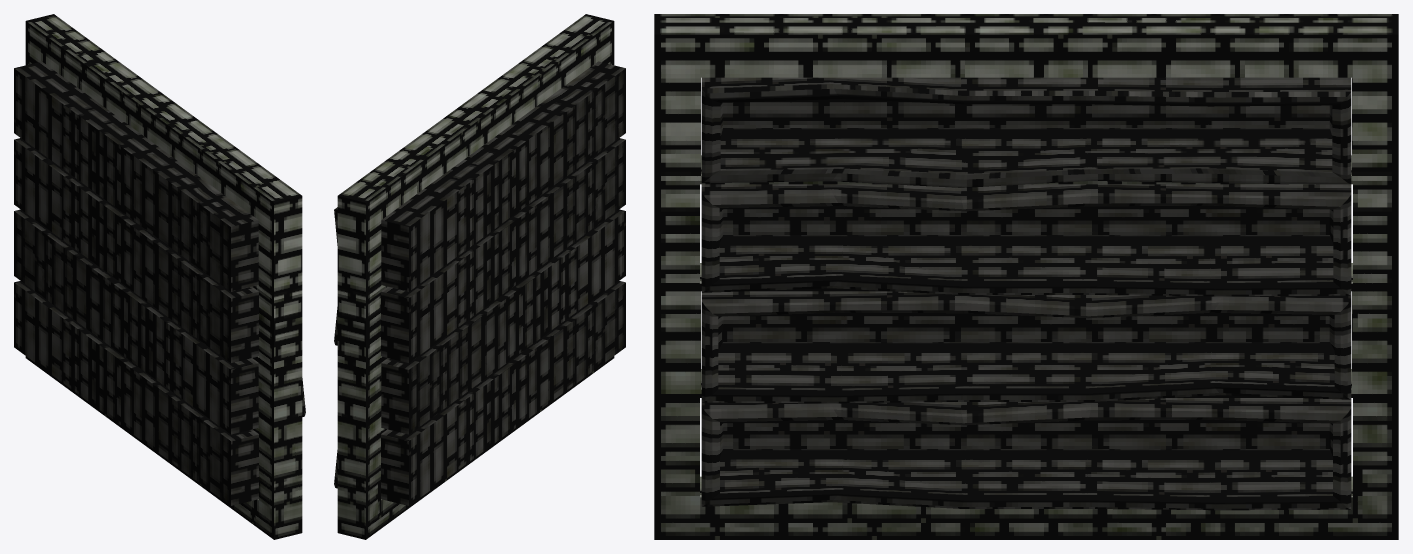
The model's file is WallGraves.fbx.
3 renders of one model, left to right at view 1: azimuth 30°, elevation 25°; view 2: azimuth 150°, elevation 25°; view 3: azimuth 270°, elevation 25°, orthographic. The views are drawn at different scales.
Parts seen in each view (by area): view 1: Wall.006; view 2: Wall.006; view 3: Wall.006.
Boxes of the visible parts, x1,y1,x2,y2 form: Wall.006: [14, 14, 305, 539]; Wall.006: [334, 14, 625, 539]; Wall.006: [654, 14, 1398, 539].
Size of the model in its own units: 360 by 1491 by 1991.
2 materials, 2 textured.
